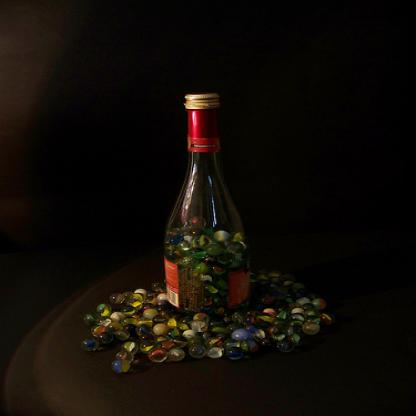bottle: (164, 93, 250, 321)
